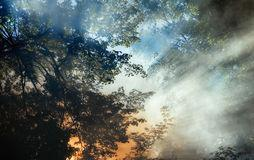fire: (67, 124, 135, 158)
